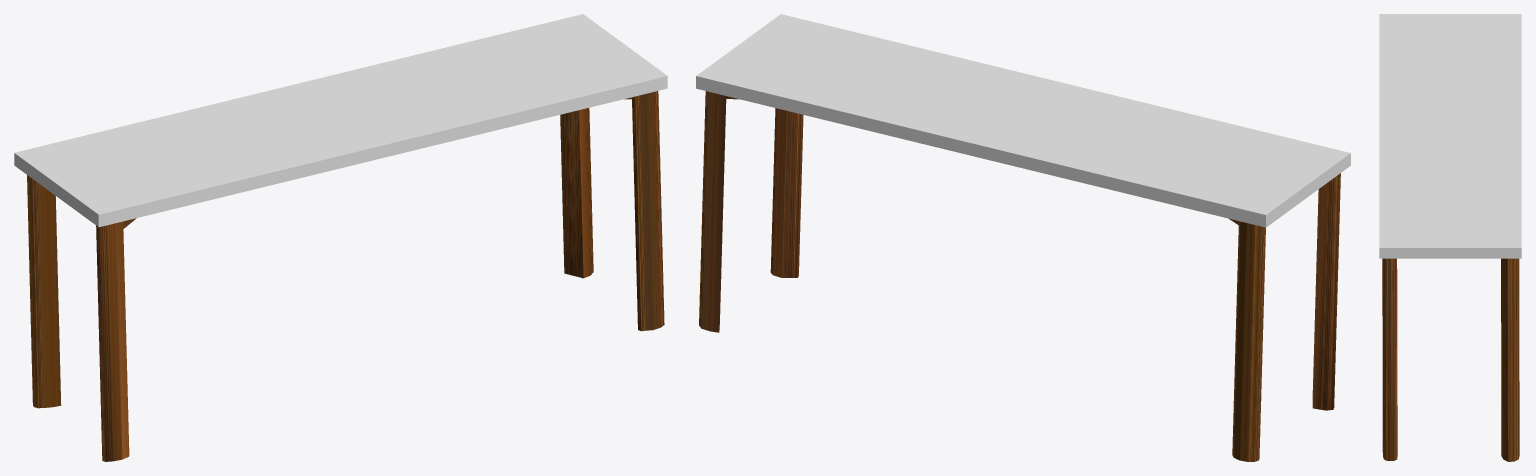
The model's file is Tab.gltf.
3 renders of one model, left to right at view 1: azimuth 30°, elevation 25°; view 2: azimuth 150°, elevation 25°; view 3: azimuth 270°, elevation 25°, orthographic. The views are drawn at different scales.
Visible parts, largest first — view 1: 3D desks (1); view 2: 3D desks (1); view 3: 3D desks (1).
Boxes of the visible parts, left/top/right/bottom form: 3D desks (1): left=14, top=14, right=667, bottom=461; 3D desks (1): left=696, top=14, right=1350, bottom=461; 3D desks (1): left=1379, top=14, right=1521, bottom=461.
Size of the model in its own units: 12.04 by 5.11 by 3.09.
Materials: 3 (1 with a texture image).
